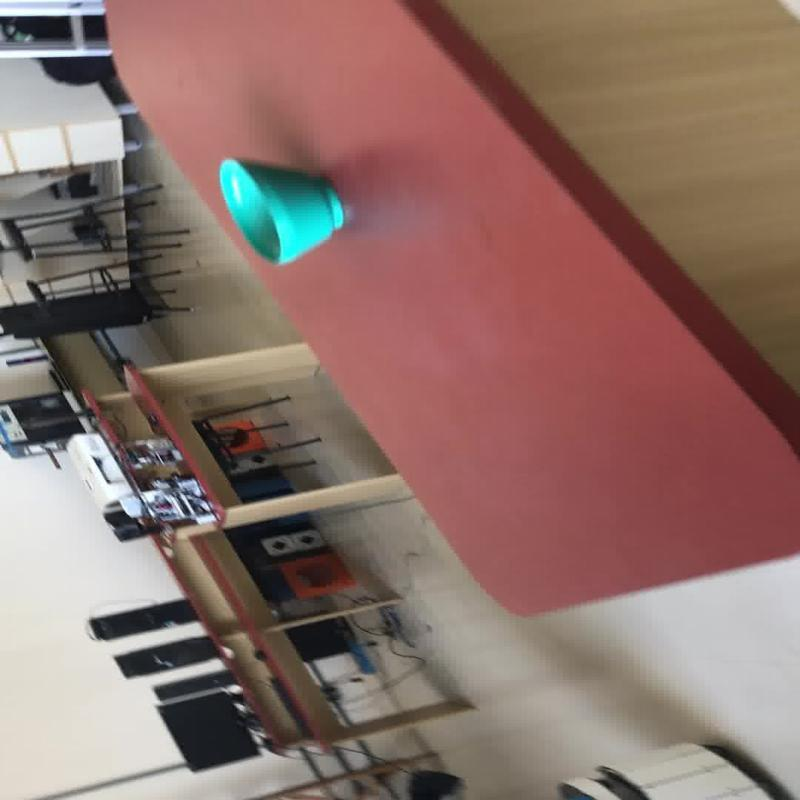bowl: (216, 156, 344, 266)
